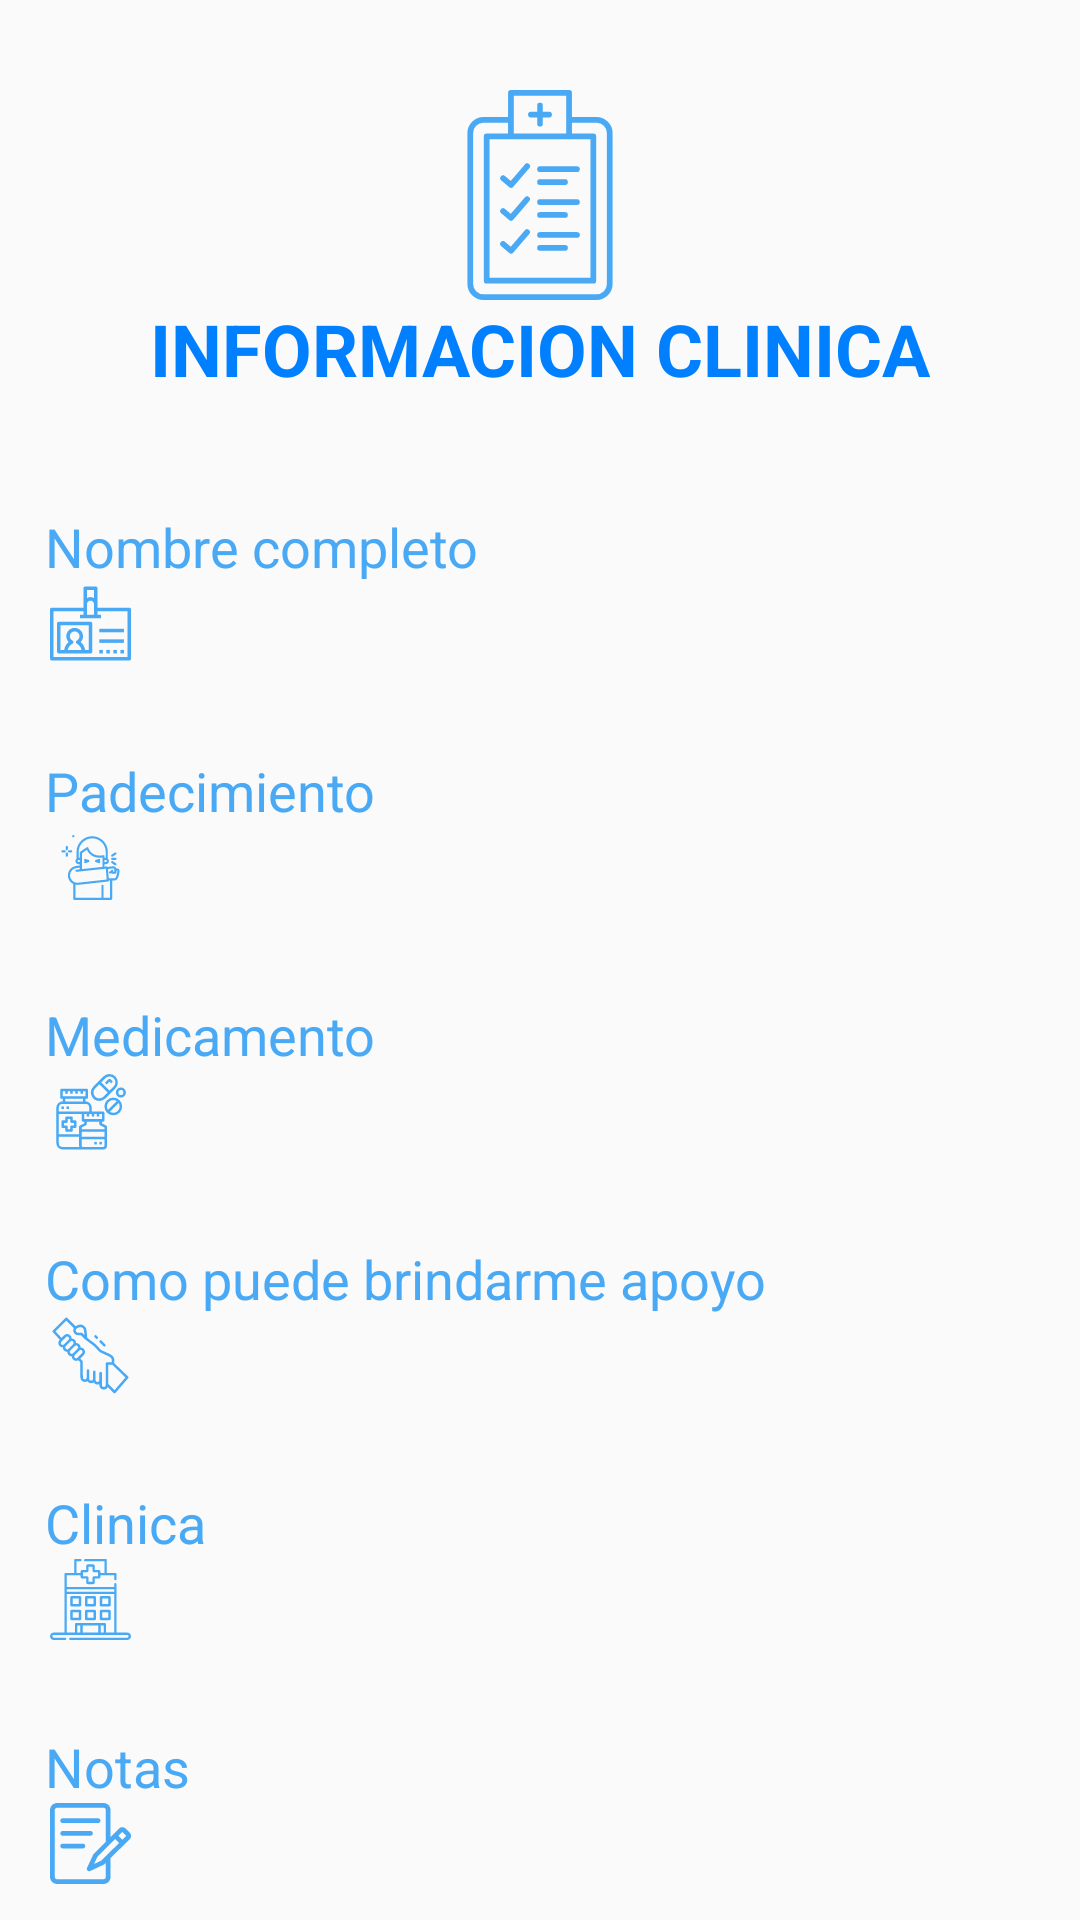

Where icons sit on this 1080w x 1920h app screen, as (x1, y1, x2, y2):
carnet de identidad: (50, 586, 131, 661)
reporte de salud: (467, 90, 613, 300)
